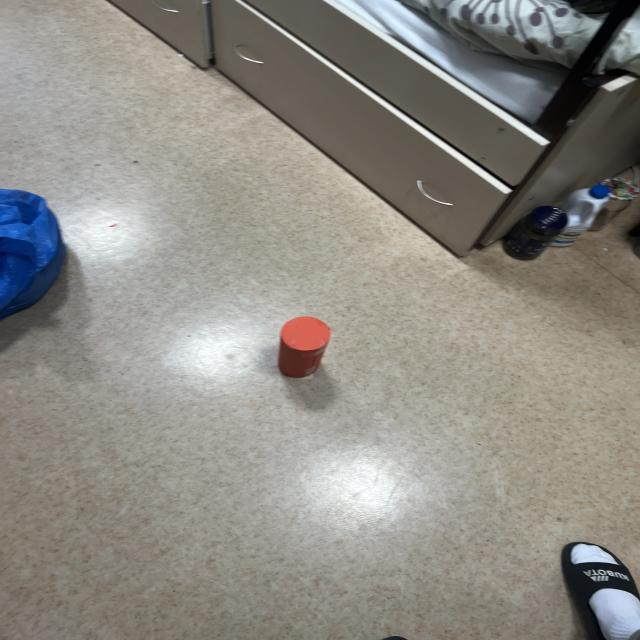przeszkoda: (278, 317, 330, 378)
